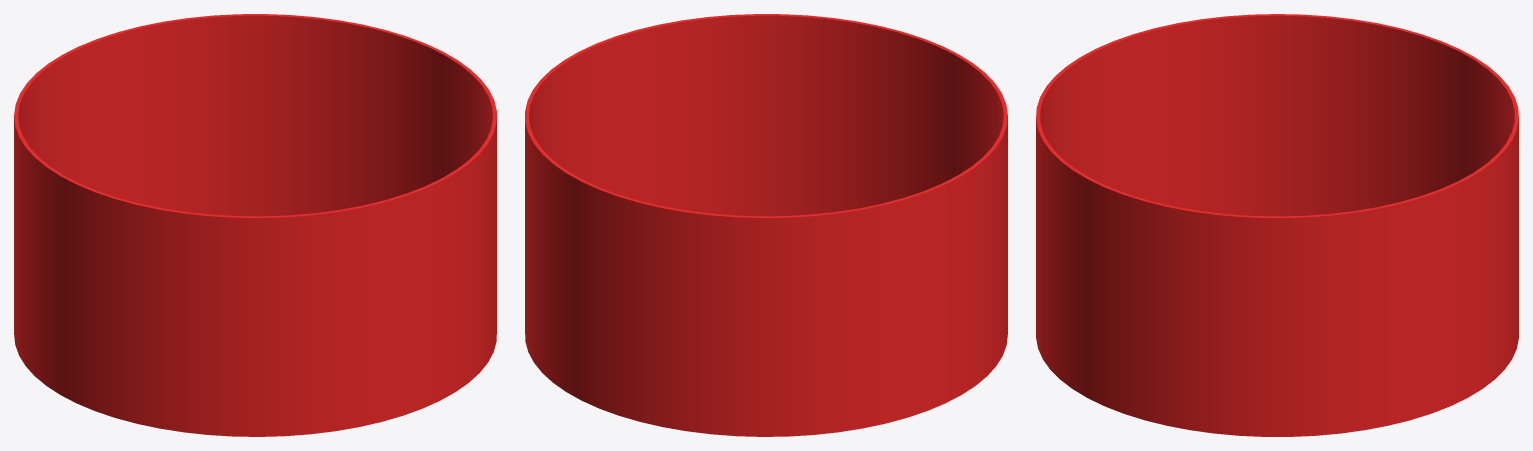
File: drum-hornet-red.obj
The picture shows the model from 3 angles, left to right: view 1: azimuth 30°, elevation 25°; view 2: azimuth 150°, elevation 25°; view 3: azimuth 270°, elevation 25°; orthographic projection.
Visible parts, largest first — view 1: Entity2geometry; view 2: Entity2geometry; view 3: Entity2geometry.
Part boxes in pixels (x1=…): Entity2geometry: x1=14, y1=14, x2=496, y2=436; Entity2geometry: x1=525, y1=14, x2=1007, y2=436; Entity2geometry: x1=1036, y1=14, x2=1518, y2=436.
Bounding box in the file's own units: 59.96 × 30 × 59.98.
